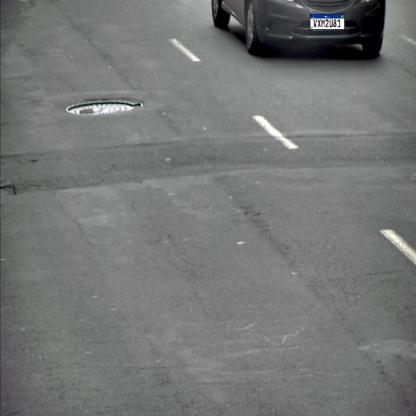PlacaM: (310, 14, 345, 30)
